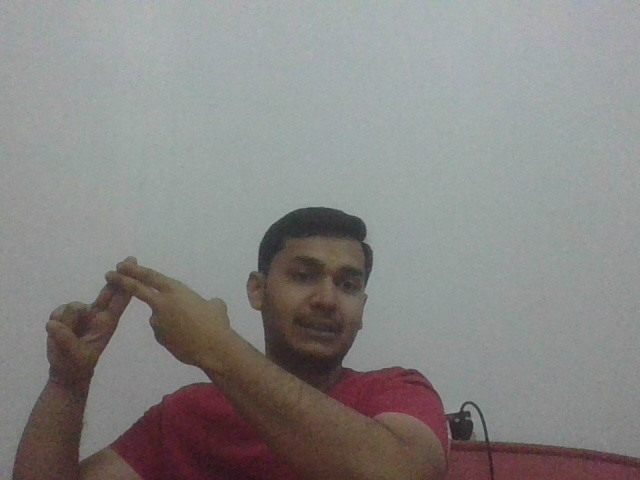F: (42, 250, 233, 372)
